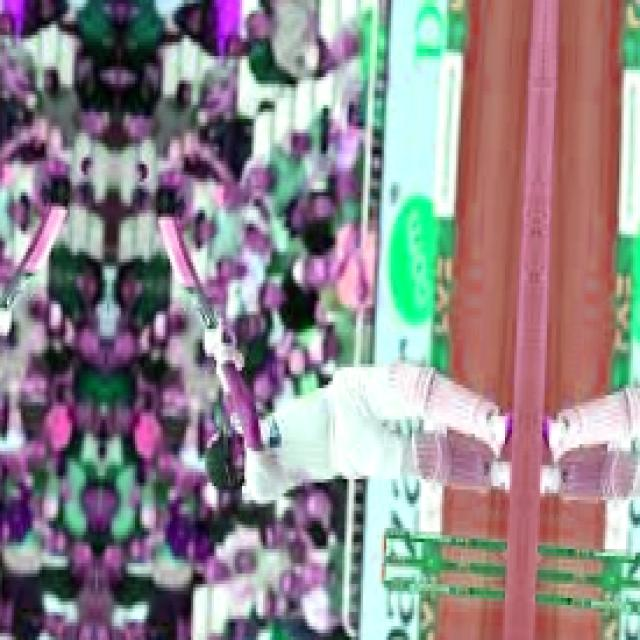toe: (151, 210, 181, 226)
